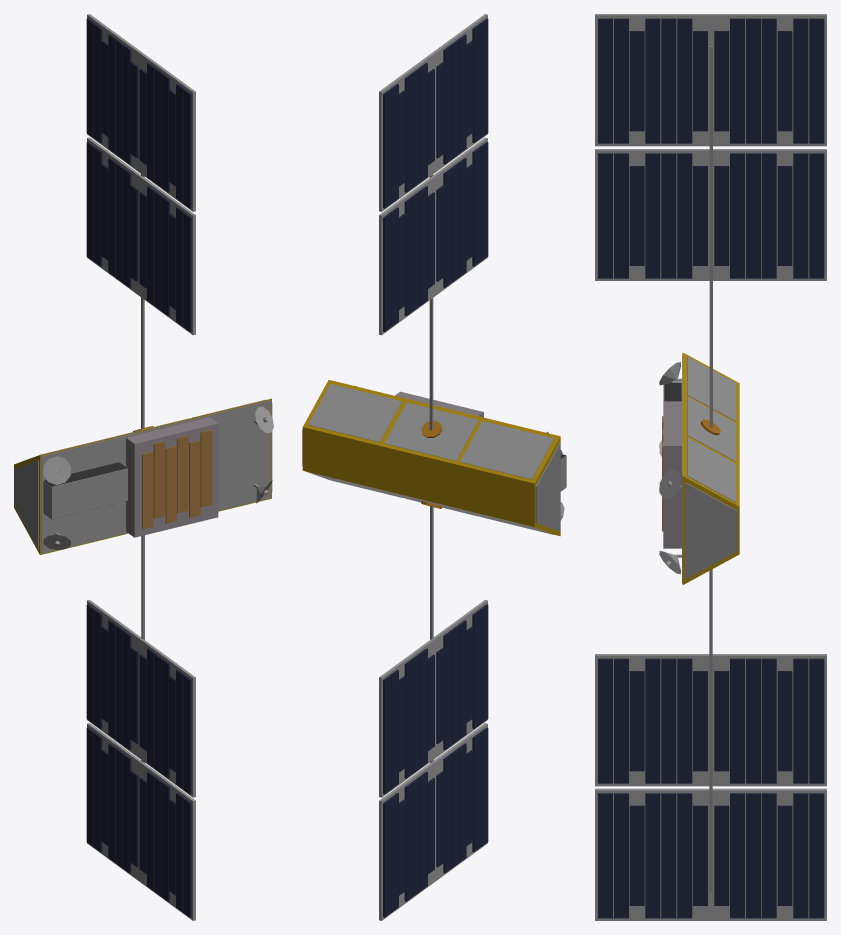
The model's file is iridium_next_high.gltf.
3 views of the same model, side by side, from view 1: azimuth 30°, elevation 25°; view 2: azimuth 150°, elevation 25°; view 3: azimuth 270°, elevation 25° (orthographic). The views are drawn at different scales.
Visible parts, largest first — view 1: Cube.011, Cube.001, Cube.002, Cube.038, Cube.039, Cube.020, Cube.022, Cube.036, Cube, Cube.047, Cube.622, Cube.060 (+61 smaller); view 2: Cube, Cube.017, Cube.015, Cube.016, Cube.020, Cube.022, Cube.039, Cube.038, Cube.036, Cube.609, Cube.040, Cube.029 (+54 smaller); view 3: Cube.039, Cube.038, Cube.022, Cube.020, Cube.018, Cube, Cube.001, Cube.023, Cube.024, Cube.025, Cube.617, Cube.618 (+56 smaller).
Boxes of the visible parts, x1,y1,x2,y2 form: Cube.011: (41,400,271,553); Cube.001: (126,417,218,537); Cube.002: (43,468,127,518); Cube.038: (87,600,195,797); Cube.039: (87,723,195,920); Cube.020: (87,137,195,335); Cube.022: (87,14,195,211); Cube.036: (14,460,38,549); Cube: (14,398,271,554); Cube.047: (183,798,191,917); Cube.622: (183,89,191,208); Cube.060: (183,675,191,794); Cube: (302,380,560,536); Cube.017: (460,421,554,479); Cube.015: (308,384,402,442); Cube.016: (384,402,478,460); Cube.020: (379,137,487,335); Cube.022: (379,14,487,211); Cube.039: (379,723,487,920); Cube.038: (379,600,487,797); Cube.036: (535,442,560,531); Cube.609: (383,675,391,794); Cube.040: (383,798,391,917); Cube.029: (383,89,391,208); Cube.039: (595,788,826,920); Cube.038: (595,654,826,786); Cube.022: (595,14,826,146); Cube.020: (595,149,826,280); Cube.018: (685,482,737,579); Cube: (682,352,739,584); Cube.001: (663,401,681,548); Cube.023: (809,153,824,278); Cube.024: (793,153,808,278); Cube.025: (761,153,776,278); Cube.617: (645,153,660,278); Cube.618: (661,153,676,278).
Size of the model in its own units: 5.59 by 18.91 by 4.39.
